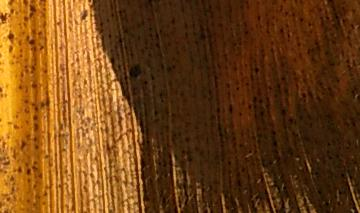tarspot: (139, 153, 150, 202), (108, 57, 119, 81), (128, 63, 142, 79), (137, 110, 145, 136), (264, 95, 272, 117), (197, 23, 207, 40), (28, 3, 37, 19), (6, 28, 15, 43), (249, 199, 258, 213), (1, 11, 9, 26), (80, 9, 89, 22), (19, 139, 28, 152), (286, 116, 297, 126), (116, 29, 123, 44), (227, 102, 234, 115), (27, 38, 37, 47), (251, 95, 257, 110), (157, 92, 165, 103), (351, 204, 360, 213), (271, 138, 279, 148), (339, 171, 347, 181), (351, 120, 359, 130), (7, 43, 14, 54), (149, 70, 156, 81), (8, 7, 17, 15), (30, 81, 39, 89), (32, 113, 40, 122), (279, 107, 286, 117), (169, 16, 176, 26), (306, 20, 314, 28), (223, 82, 231, 90), (323, 199, 331, 207), (236, 109, 244, 117), (253, 66, 260, 75), (256, 14, 263, 23), (186, 155, 193, 164), (270, 127, 277, 136), (22, 14, 28, 24), (33, 122, 39, 132), (183, 30, 189, 40), (38, 44, 45, 52), (179, 147, 186, 155), (315, 188, 322, 196), (300, 91, 308, 98), (170, 63, 178, 70), (208, 205, 215, 213), (214, 105, 221, 113), (32, 134, 38, 143), (17, 165, 23, 174), (25, 167, 31, 176), (279, 75, 288, 81), (183, 21, 189, 30), (37, 172, 44, 179), (162, 171, 169, 178), (327, 155, 334, 162), (6, 1, 14, 7), (242, 29, 250, 35), (278, 25, 284, 33), (184, 135, 190, 143), (201, 207, 209, 213), (239, 165, 247, 171), (246, 148, 252, 156), (247, 102, 252, 111), (159, 62, 164, 71), (153, 108, 158, 117), (34, 144, 41, 150), (258, 111, 265, 117), (161, 161, 167, 168), (106, 32, 112, 39), (237, 142, 244, 148), (22, 1, 28, 7), (234, 86, 240, 92), (298, 17, 304, 23), (325, 141, 331, 147), (145, 138, 150, 145), (226, 160, 232, 165), (1, 85, 4, 94), (86, 1, 92, 4)
